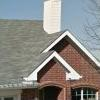Chimney: (42, 1, 66, 36)
